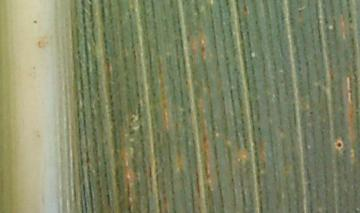tarspot: (336, 140, 343, 148), (31, 17, 38, 25)
